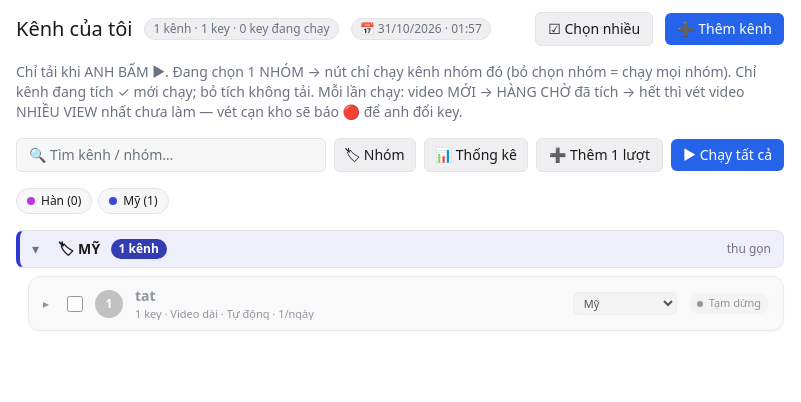
Test: Nút ➕ Thêm 1 lượt (trang Theo dõi) › không có kênh nào hợp lệ → báo lỗi rõ ràng, KHÔNG hỏi xác nhận
Click the button titled "TẢI THÊM 1 VIDEO cho MỖI kênh".
click(599, 155)  # box x1=536 y1=138 x2=663 y2=172
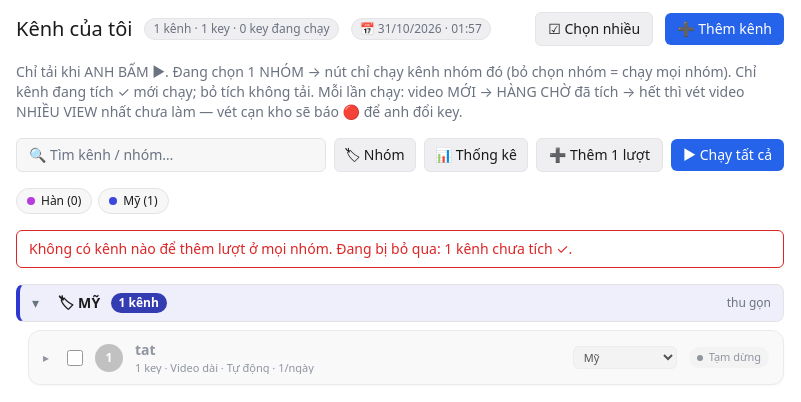
Now the text "Không có kênh nào để thêm lượt" is shown, box x1=29 y1=239 x2=572 y2=258
